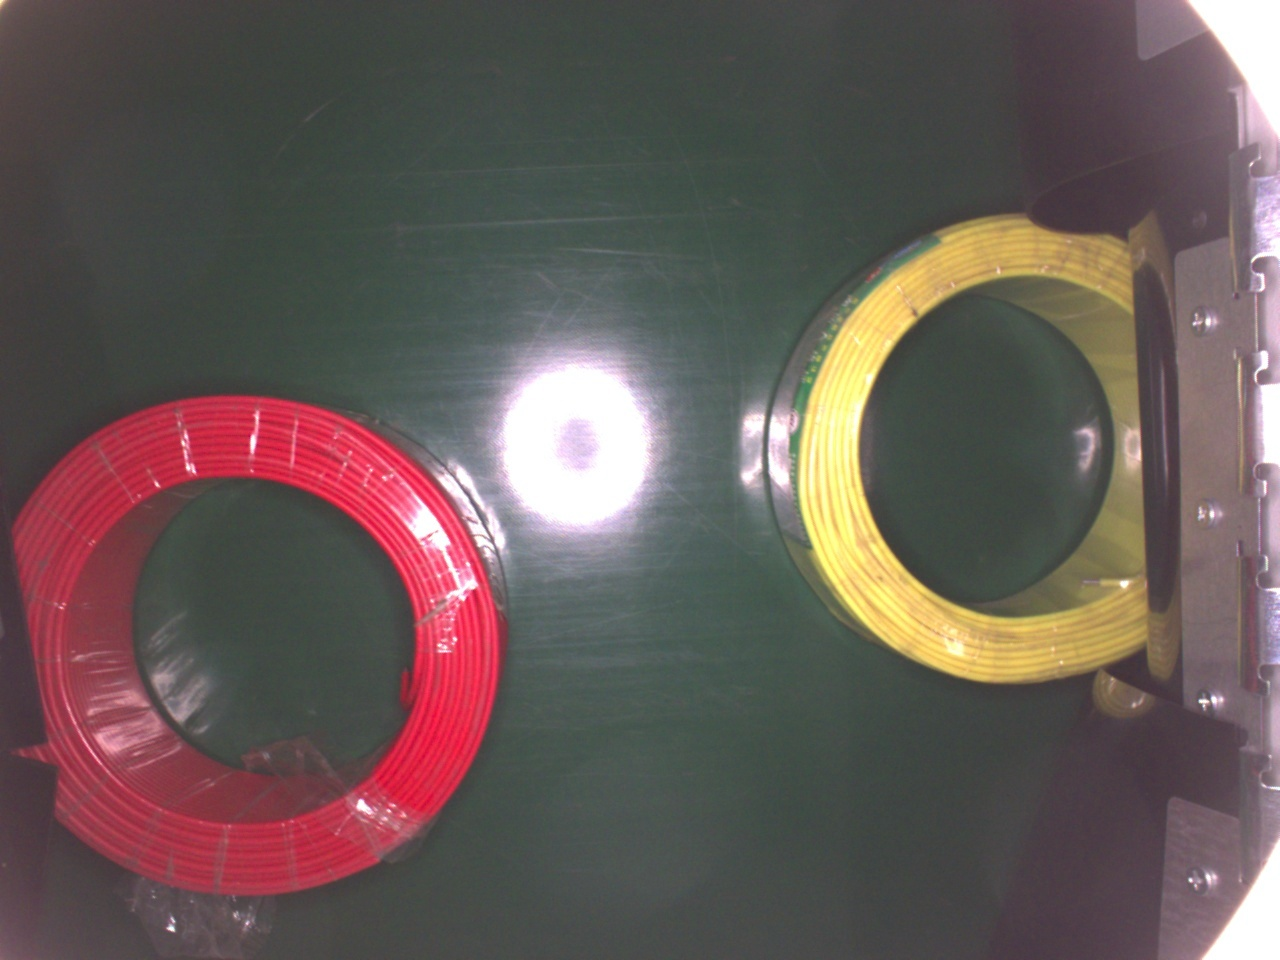red: (11, 388, 507, 905)
yellow: (758, 207, 1147, 679)
